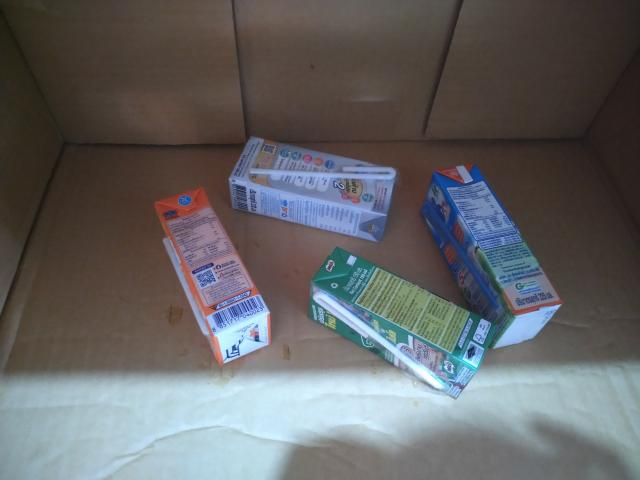drink_box: (294, 235, 504, 415), (405, 150, 594, 349), (139, 177, 289, 374), (218, 119, 415, 257)
